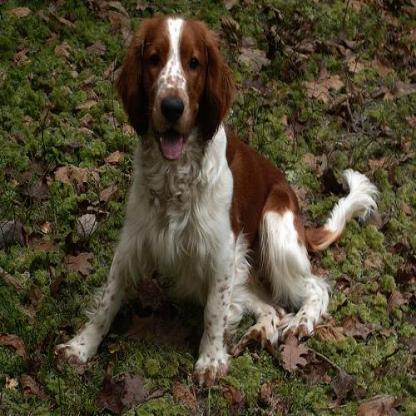Welsh_springer_spaniel: (52, 13, 380, 388)
